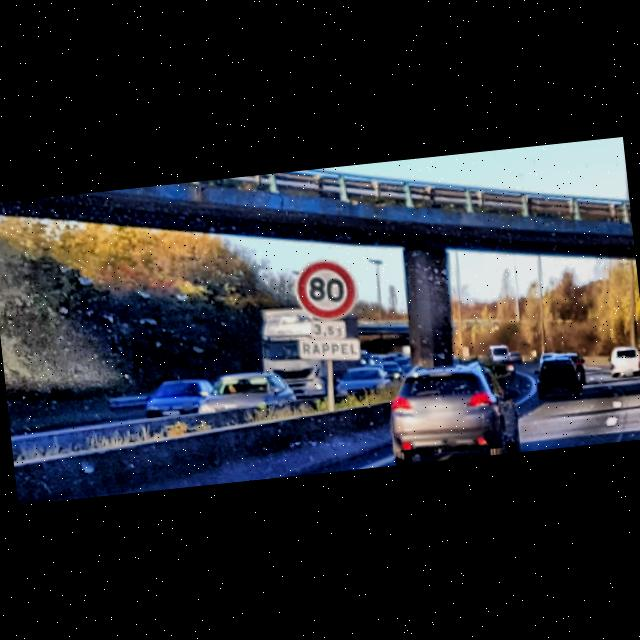speed_80: (294, 256, 362, 322)
